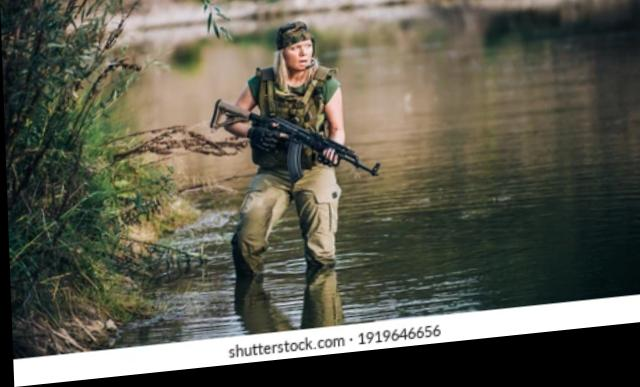other: (225, 36, 347, 335)
